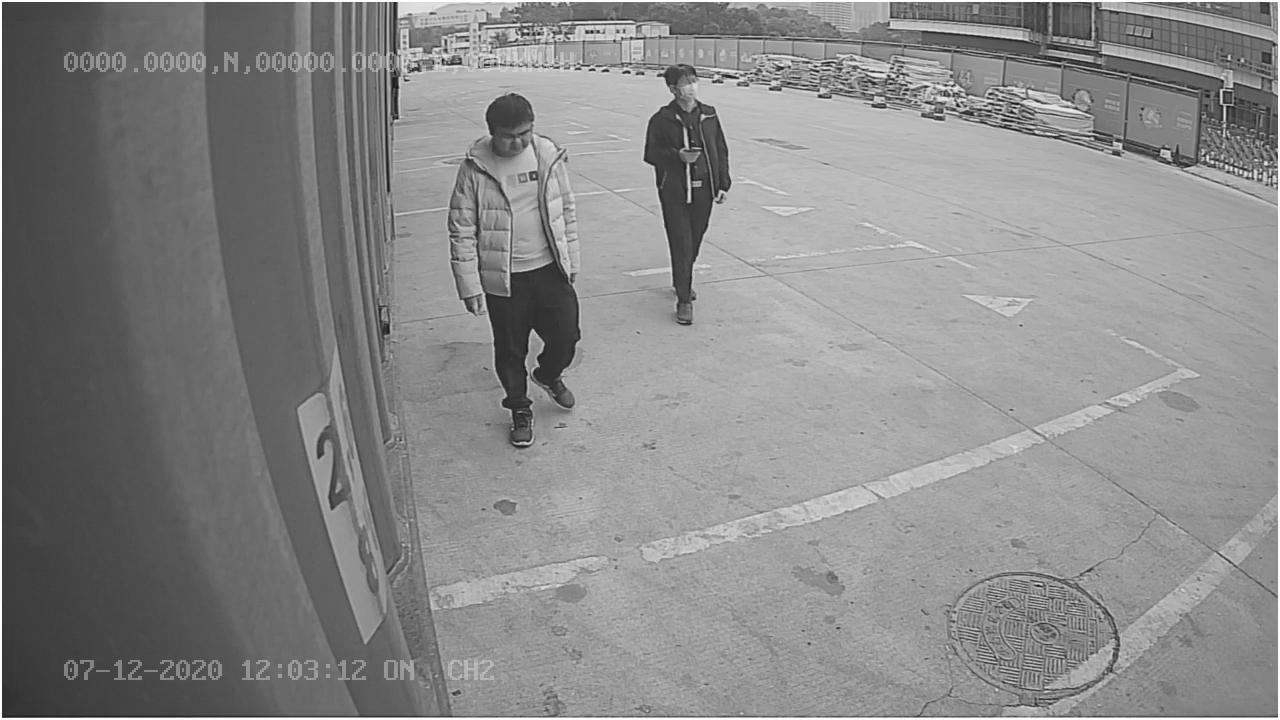person: (447, 84, 589, 447), (636, 53, 732, 332)
